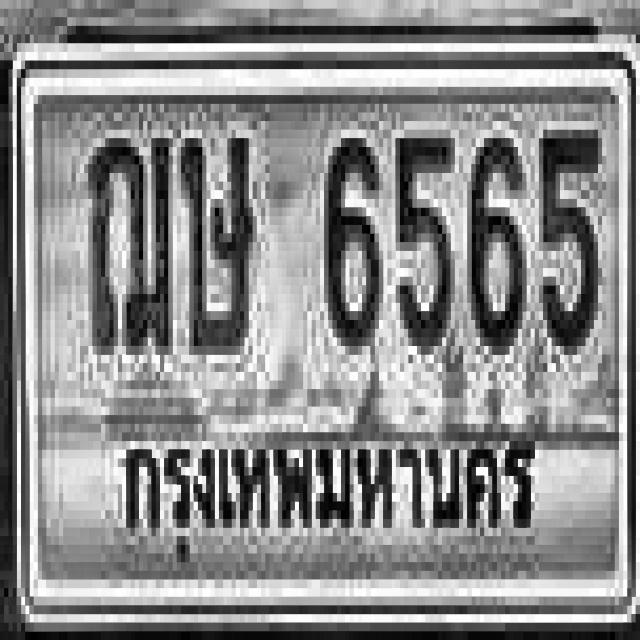license-plate: (8, 34, 639, 640)
